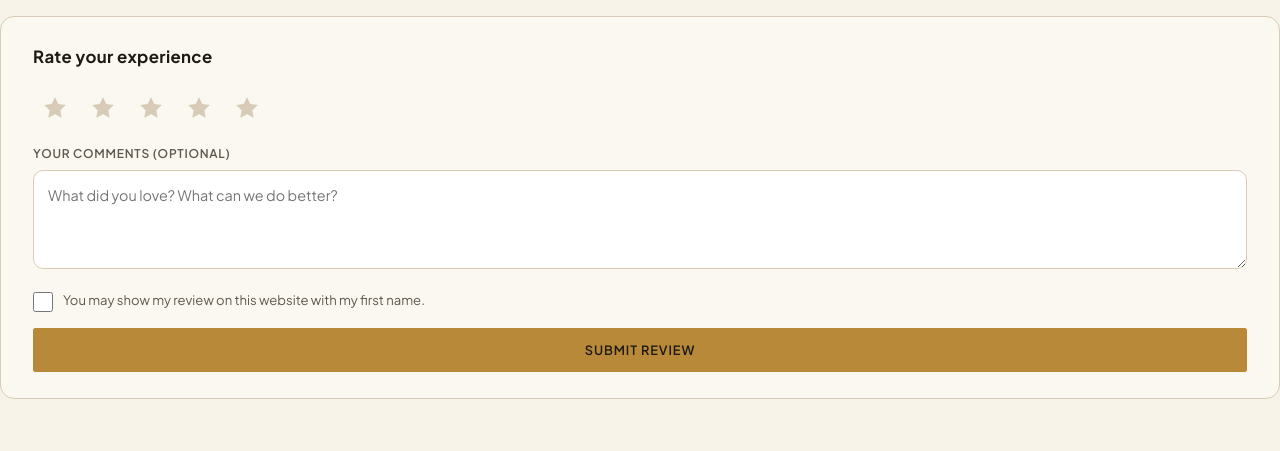
OrderReviewForm › blocks submit without a rating
Click the button "Submit Review" at (640, 350), box x1=33 y1=328 x2=1247 y2=372
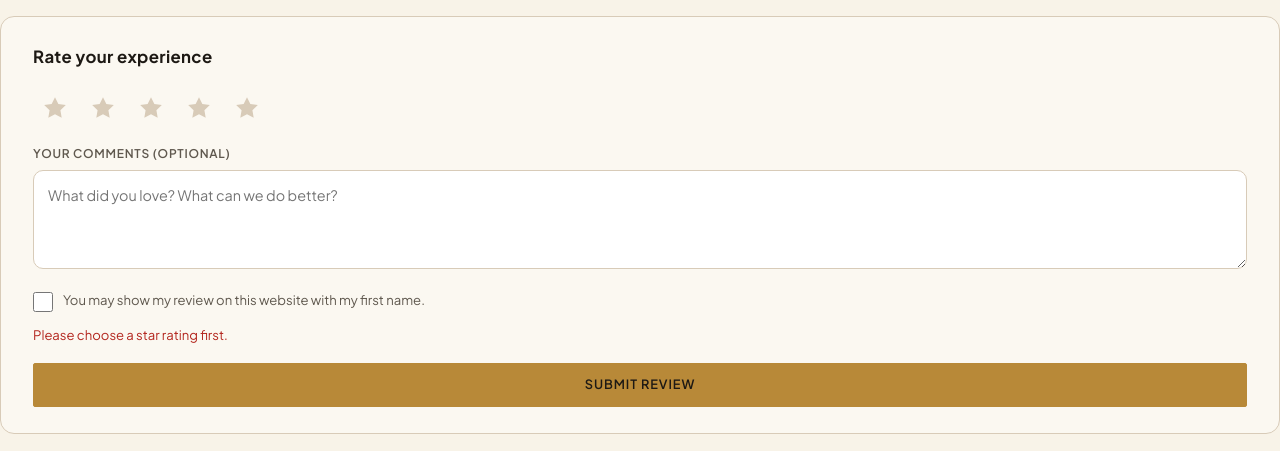
Expected: the message "Please choose a star rating first." is shown, x1=33 y1=326 x2=228 y2=344
